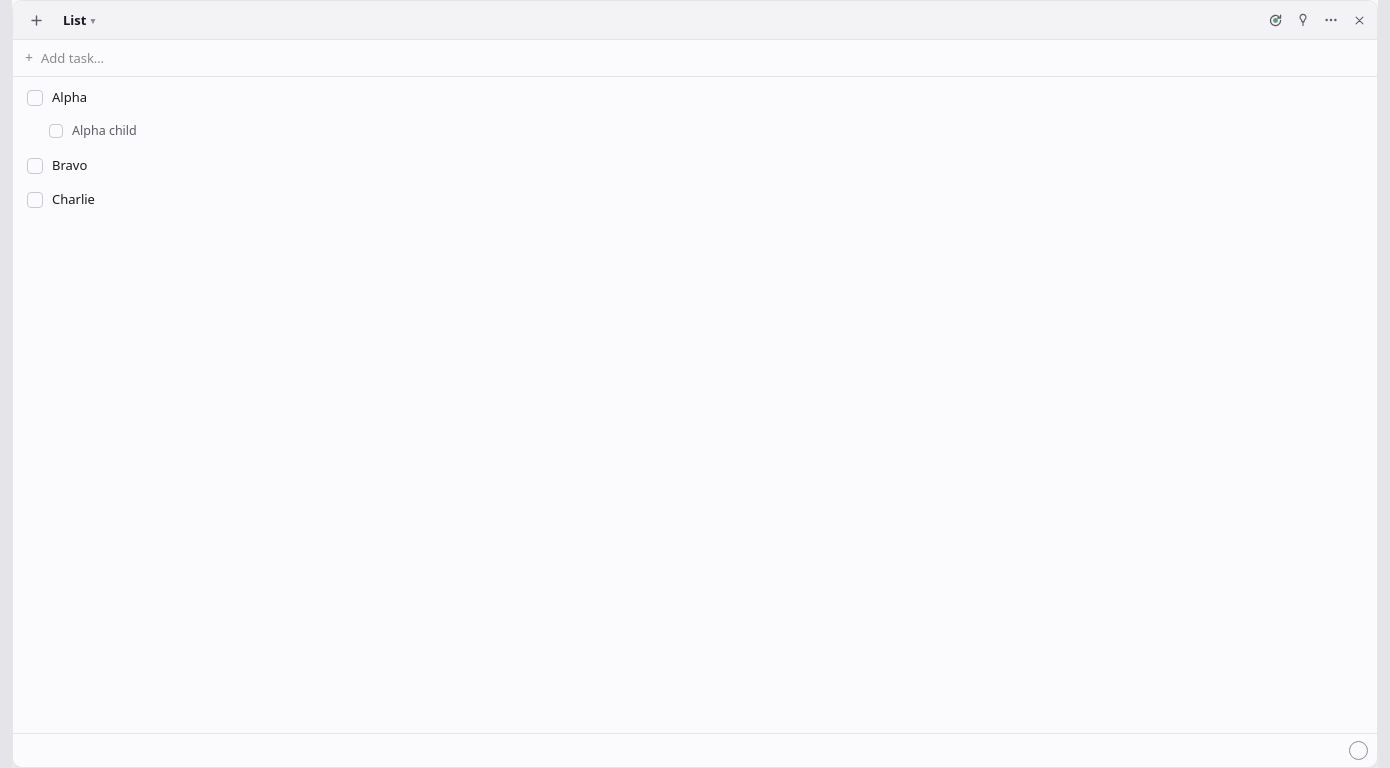
TaskWidget group delete › asks before deleting a selection with the Delete key
Click the text "Bravo" at (70, 165), box [52,156,87,174]
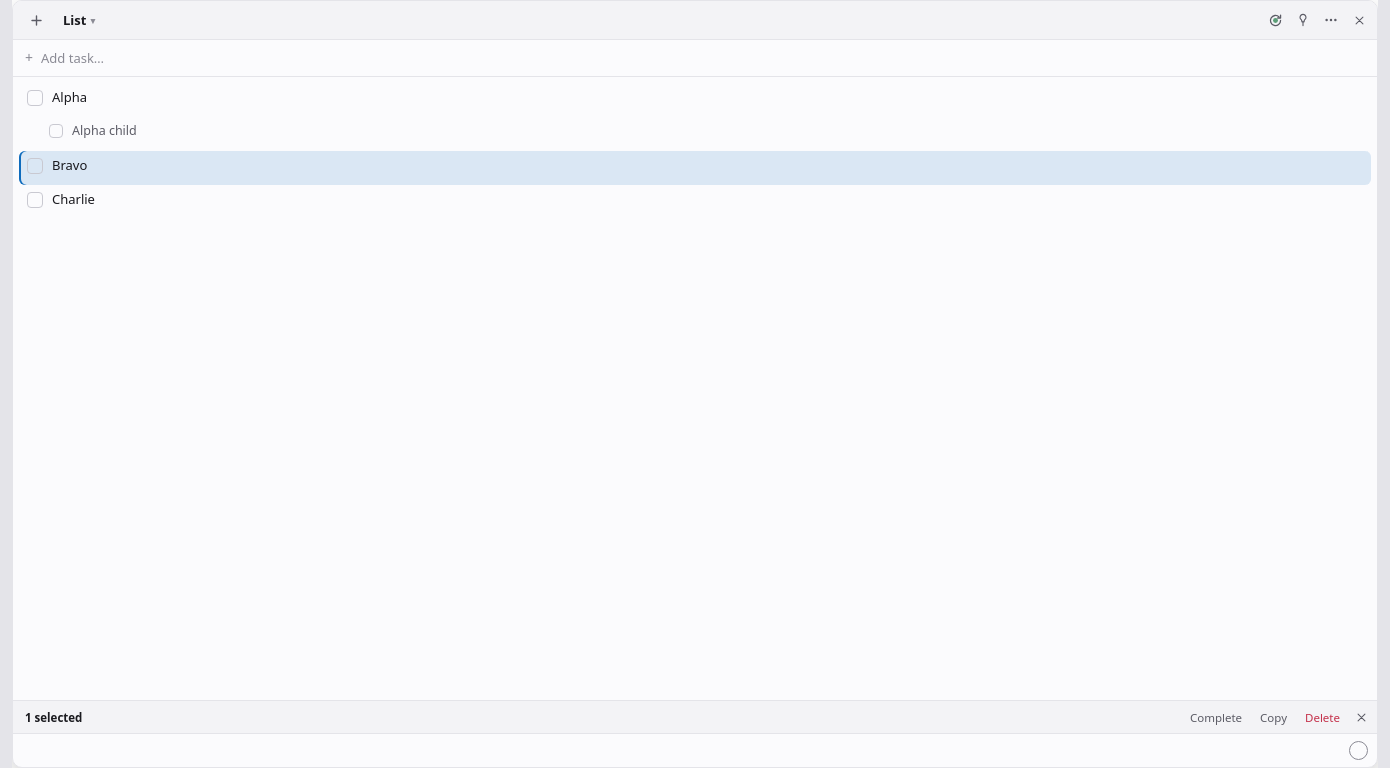
Click the text "Charlie" at (74, 199), box [52,190,95,208]
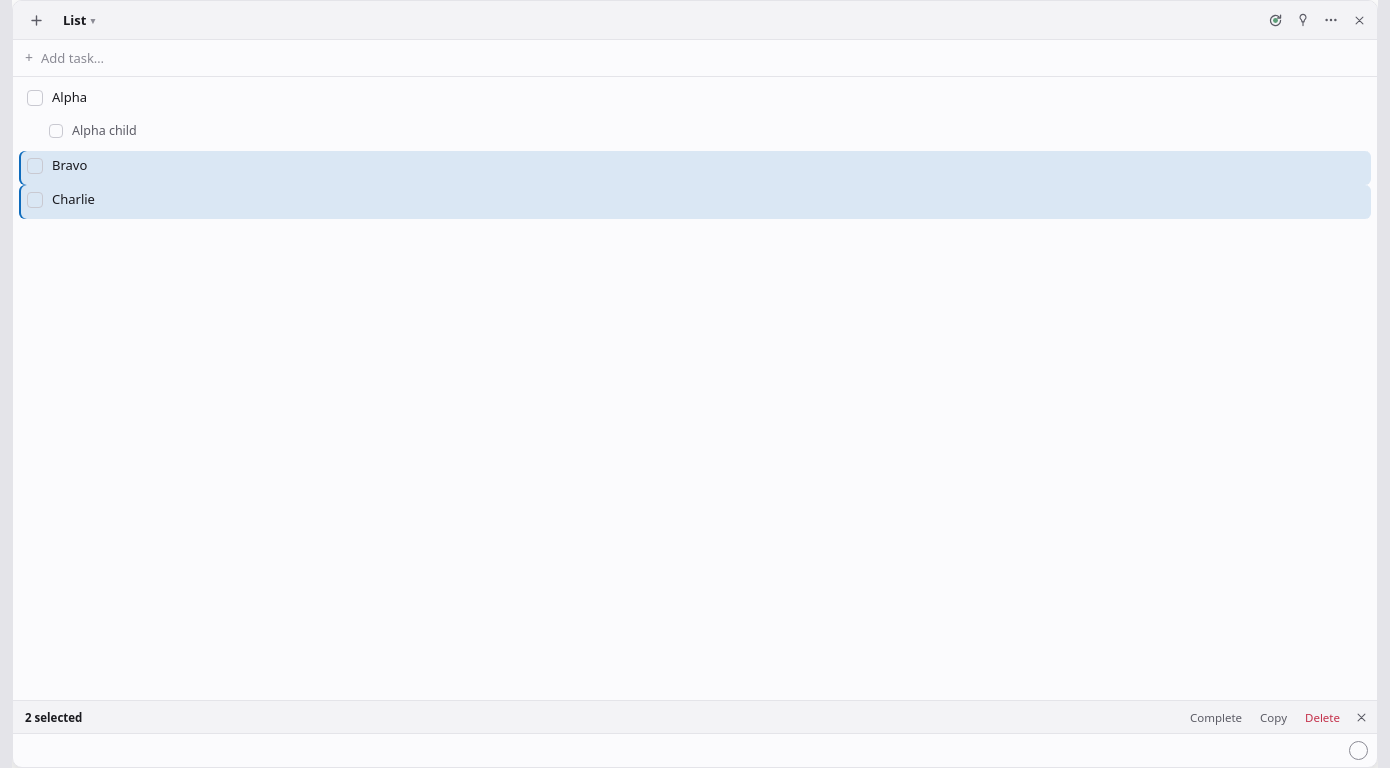
Press Delete
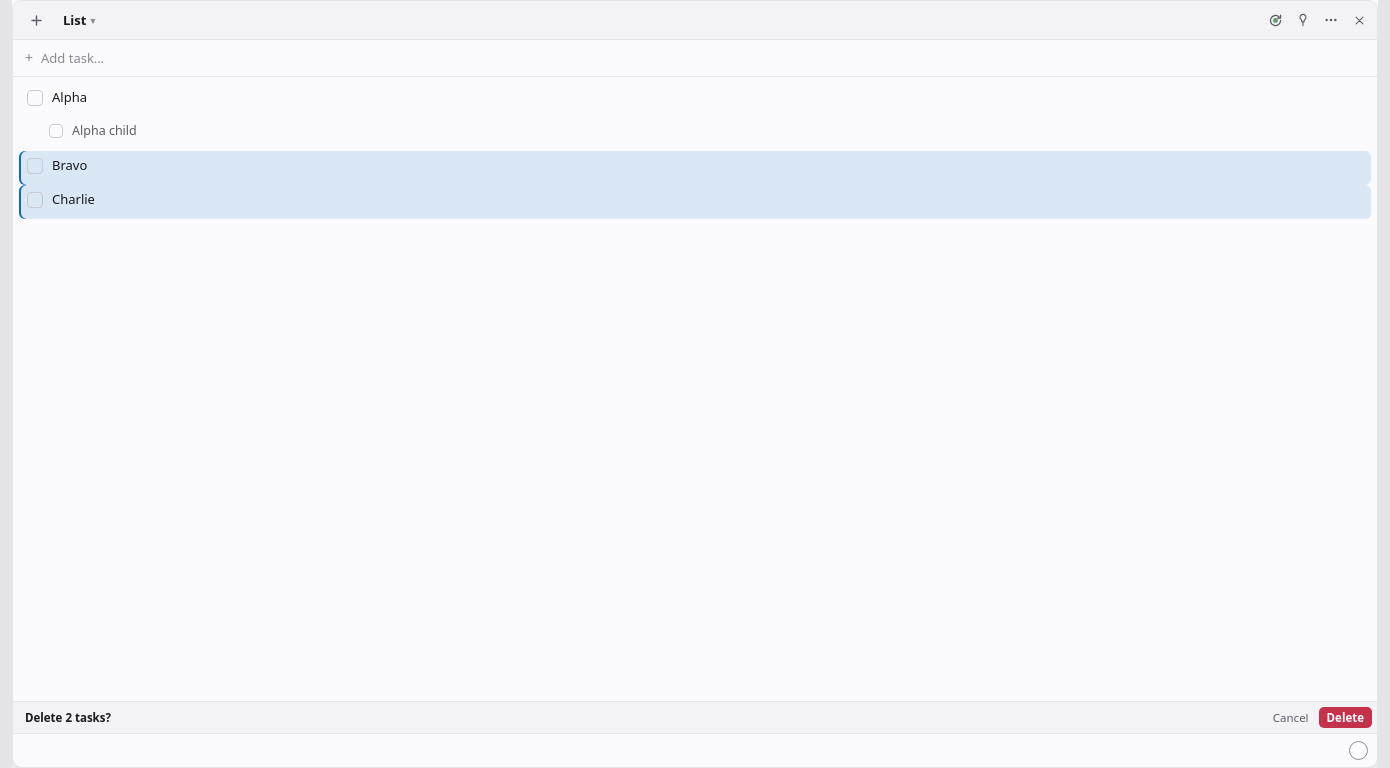
expect the message reads "Delete 2 tasks?": met, box [25,710,111,725]
